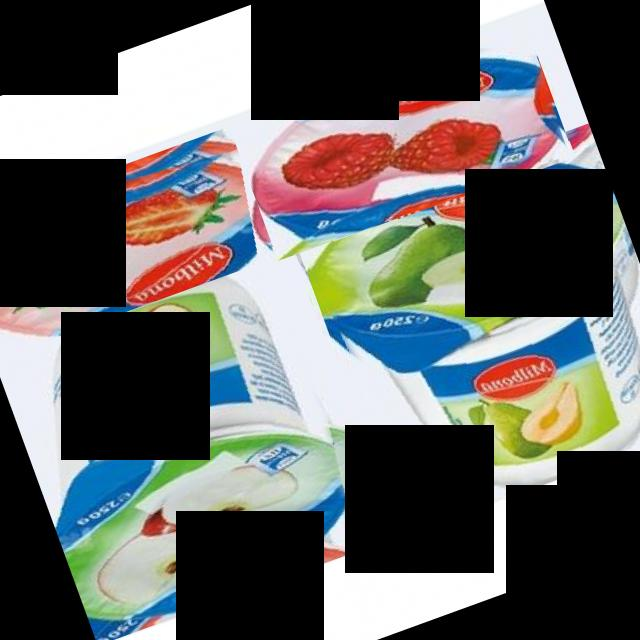yogurt: (0, 227, 396, 640), (292, 123, 640, 532), (230, 19, 574, 261), (0, 121, 291, 360)
